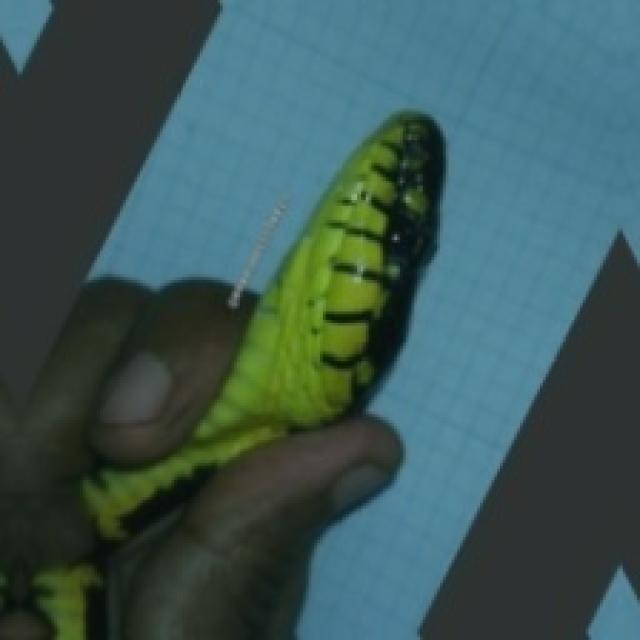mangrove cat snake: (83, 111, 440, 540)
